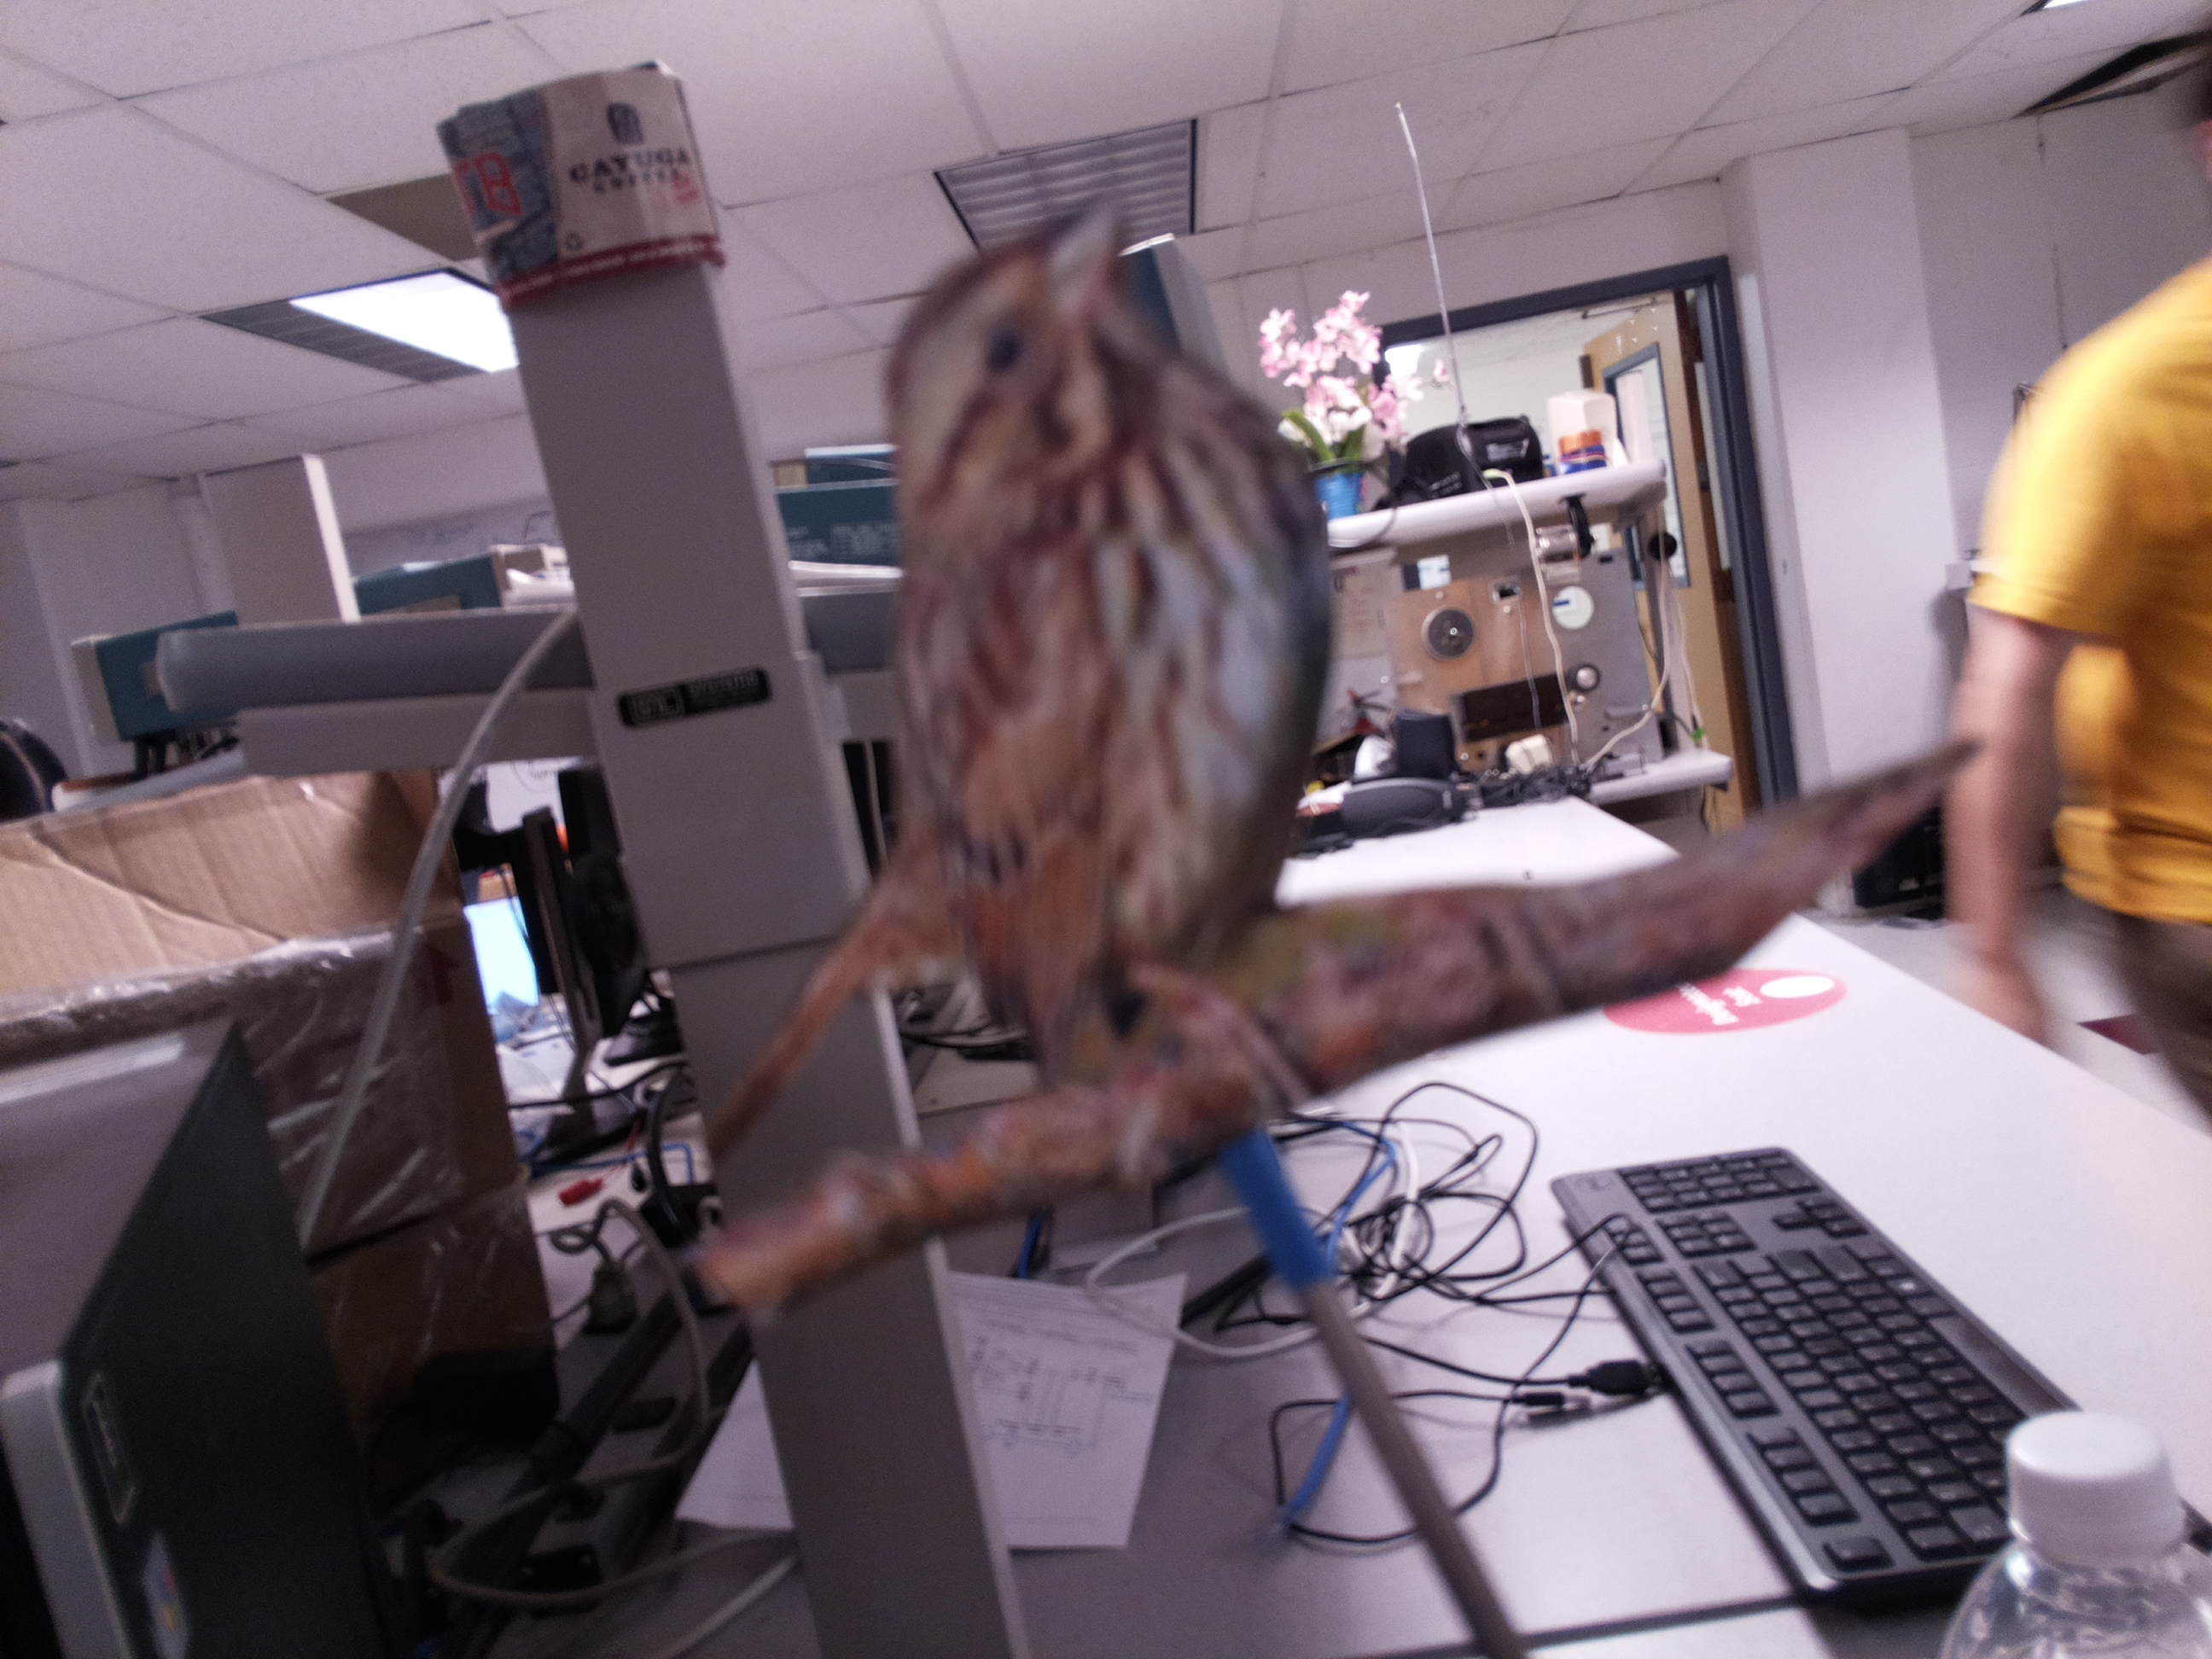bird: (690, 173, 1334, 1173)
